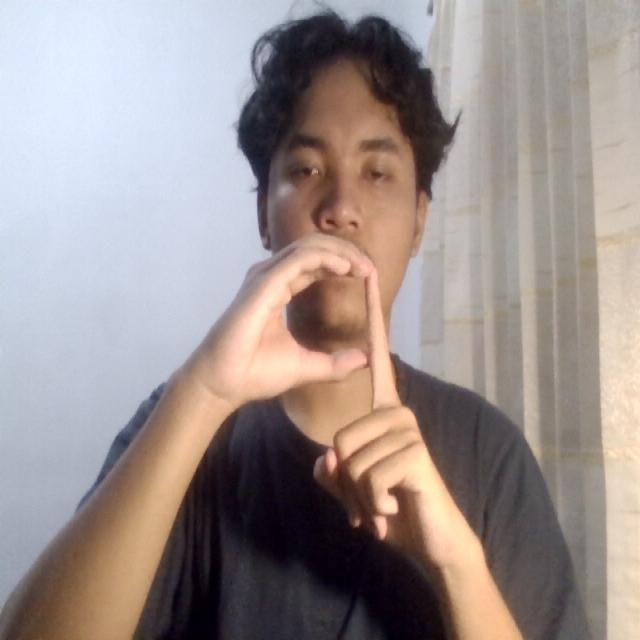D: (215, 225, 458, 571)
